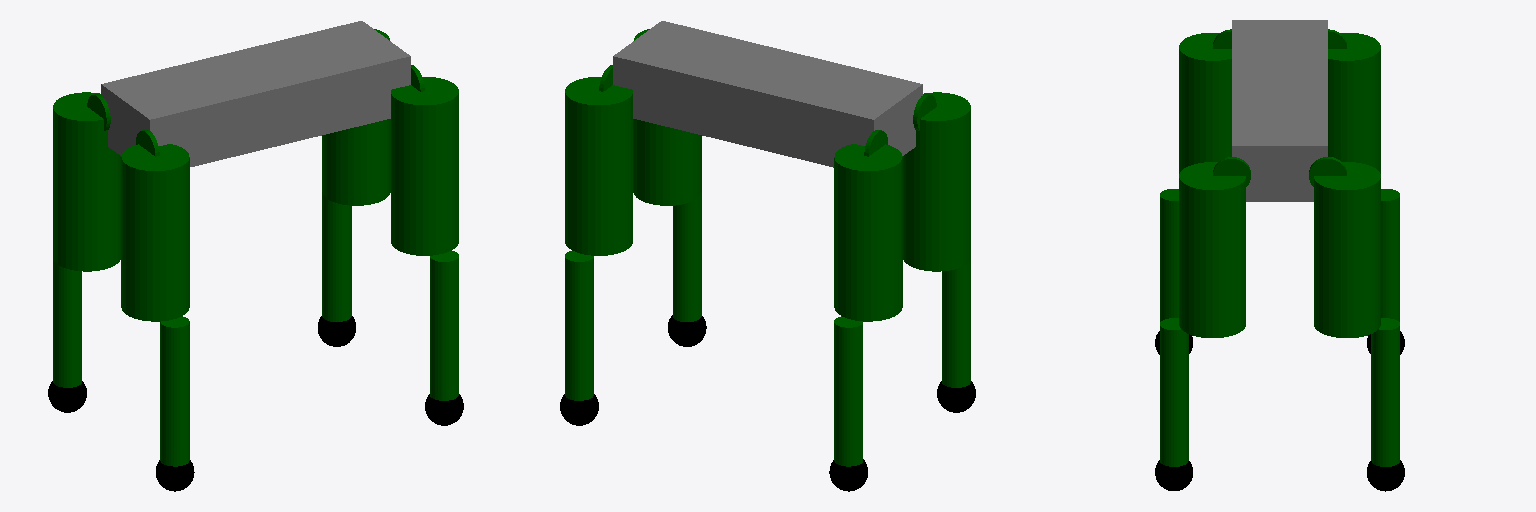
The robot description file, URDF, robot "simple_ghost_v60":
<?xml version="1.0" ?>
<!-- =================================================================================== -->
<!-- |    This document was autogenerated by xacro from simple_ghost_v60.xacro         | -->
<!-- |    EDITING THIS FILE BY HAND IS NOT RECOMMENDED                                 | -->
<!-- =================================================================================== -->
<!--
This is the main Xacro file used to describe the mechanical properties of the quadruped Çomar. 

Xacro is an XML language based on URDF. It has the capability of running macros. Such as taking variables and writing functions. 
Xacro can be converted to a straightforward URDF file pretty easily. So it is advantageous to use.

This file can be used as a template for future changes in the robot. This file alone does not work since it refers to other Xacro files and functions inside them.  

The document explains each property with comments (green) above them. As a rule of  thumb turquoise indicates variable name and orange indicates the value of the variable. 
Edit orange values only.



-->
<robot name="simple_ghost_v60">
  <!-- custom tags. please enter the desired values if available 
body_height in meters. height of the body part
gear ratios - no units
motorTauMax maximum torque the motor can aply. Nm
batteryV Battery Voltage, Volts
motorKT from motor sheet
motorR Ohms
rotorRadius and rotorHeight in meters
RotorMass in kg
-->
  <custom abadGearRatio="1" batteryV="24" body_height="5" hipGearRatio="1" kneeGearRatio="1" motorKT="0.095" motorR="0.272" motorTauMax="25" rotorHeight="0.0502" rotorMass="0.521" rotorRadius="0.083"/>
  <!-- robot name -->
  <!-- directory folder containing the mesh files -->
  <!-- <xacro:property name="meshdir" value="package://opy-highlevel/meshes/solo12" />  -->
  <!-- directory to file -->
  <!-- name of the file, should not have .stl at the end -->
  <!-- <xacro:property name="body_meshfile"   value= "GOVDE" />    
  <xacro:property name="abad_meshfile"   value= "ABDUCTION" /> 
  <xacro:property name="hip_meshfile"    value= "HIP" /> 
  <xacro:property name="knee_meshfile"   value= "KNEE" /> 
  <xacro:property name="foot_meshfile"   value= "FOOT" />  -->
  <!-- [kg] -->
  <!-- [kg] -->
  <!-- [kg] -->
  <!-- [kg] -->
  <!-- [kg] -->
  <!-- [kg] -->
  <!--[N] -->
  <!-- [m] -->
  <!-- <xacro:property name="body_inertia_at_com" value="${[0.144005 0.000254013 -0.00166722
                                                                0.380679  0.00130096
                                                                          0.447682]}" />    -->
  <!-- [m] -->
  <!-- abad_com_origin: center of mass of abad link wrt abad joint origin [m] -->
  <!-- <xacro:property name="abad_com_origin"    value="${[0.011366, 0.007729, 0.0048783]}" />  -->
  <!-- abad_inertia_at_com: inertia of abad link wrt abad com origin [ixx ixy ixz iyy iyz izz] -->
  <!-- <xacro:property name="abad_inertia_at_com" value="${ [ 1220.42e-06,   4.428e-06, -0.8715e-06, 
                                                                        693.402e-06, -158.578e-06, 
                                                                              835.772e-06       ]   }" />    -->
  <!-- [m] -->
  <!-- [ixx ixy ixz iyy iyz izz] -->
  <!-- <xacro:property name="hip_inertia_at_com" value="${[5973.75e-06,  -120.436e-06, 399.58e-06, 
                                                                  5820.52e-06, -875.292e-06, 
                                                                               1518.4e-06]}" />     -->
  <!-- [m] -->
  <!-- [ixx ixy ixz iyy iyz izz] -->
  <!-- <xacro:property name="knee_inertia_at_com" value="${[1555.76e-06, 0.115e-06,    -4.2593e-06, 
                                                                  1574.68e-06,  -9.6089e-06, 
                                                                                56.2211e-06]}" />    -->
  <!-- <link name="${robot_namespace}/world_link"> </link>
    <joint name="${robot_namespace}/world_j" type="revolute">
      <limit lower="-${0}" upper="${0}" effort="1e3" velocity="1e3"/> 

      <origin xyz="0 0 0" rpy="0 0 0" />
      <parent link="${robot_namespace}/world_link" />
      <child link="${robot_namespace}/base_link" />
    </joint> -->
  <material name="gray">
    <color rgba="0.5 0.5 0.5 1"/>
  </material>
  <material name="green">
    <color rgba="0 0.4 0 1"/>
  </material>
  <material name="black">
    <color rgba="0 0 0 0.9"/>
  </material>
  <!--link 0 -->
  <link name="simple_ghost_v60/base_link"> </link>
  <joint name="simple_ghost_v60/base_joint" type="revolute">
    <origin rpy="0 0 0" xyz="0 0 0"/>
    <parent link="simple_ghost_v60/base_link"/>
    <child link="simple_ghost_v60/base_link_inertia"/>
  </joint>
  <link name="simple_ghost_v60/base_link_inertia">
    <inertial>
      <origin rpy="0 0 0" xyz="0.0 0.0 0.0"/>
      <mass value="40"/>
      <!-- The base is extremely symmetrical. -->
      <!-- Inertia tensor for a box -->
      <inertia ixx="0.18966666666666668" ixy="0.0" ixz="0.0" iyy="1.3257080333333333" iyz="0.0" izz="1.4027080333333333"/>
    </inertial>
    <visual>
      <origin rpy="0 0 0" xyz="0 0 0"/>
      <geometry>
        <box size="0.6171 0.2  0.13"/>
      </geometry>
      <material name="gray"/>
    </visual>
    <collision>
      <origin rpy="0 0 0" xyz="0 0 0"/>
      <geometry>
        <box size="0.6171 0.2  0.13"/>
      </geometry>
    </collision>
  </link>
  <joint name="simple_ghost_v60/abad_1_joint" type="revolute">
    <limit effort="1e3" lower="-3.141592653589793" upper="3.141592653589793" velocity="1e3"/>
    <dynamics damping="0.03" friction="0.05"/>
    <!-- abad_joint_origin -->
    <origin rpy="0 0 0" xyz="0.30855 -0.1 0"/>
    <axis xyz="1 0 0"/>
    <parent link="simple_ghost_v60/base_link"/>
    <child link="simple_ghost_v60/abad_1"/>
  </joint>
  <link name="simple_ghost_v60/abad_1">
    <inertial>
      <!-- abad_link_origin -->
      <origin rpy="0 0 0" xyz="0.005 0 0"/>
      <mass value="0.5"/>
      <!-- [kg] -->
      <!-- abad_inertia_at_com -->
      <!-- Inertia tensor for a cylinder -->
      <inertia ixx="0.005429166666666667" ixy="0.0" ixz="0.0" iyy="0.005429166666666667" iyz="0.0" izz="0.0012250000000000002"/>
    </inertial>
    <visual>
      <origin rpy="0 -1.57 0" xyz="0.005 0 0"/>
      <geometry>
        <cylinder length="0.01" radius="0.04"/>
      </geometry>
      <material name="green"/>
    </visual>
    <collision>
      <origin rpy="0 -1.57 0" xyz="0.005 0 0"/>
      <geometry>
        <cylinder length="0.01" radius="0.04"/>
      </geometry>
    </collision>
  </link>
  <joint name="simple_ghost_v60/hip_1_joint" type="revolute">
    <limit effort="1e3" lower="-3.141592653589793" upper="3.141592653589793" velocity="1e3"/>
    <dynamics damping="0.03" friction="0.05"/>
    <!-- hip_joint_origin -->
    <origin rpy="0 0 3.14" xyz="0.01 -0.04 0"/>
    <axis xyz="0 1 0"/>
    <parent link="simple_ghost_v60/abad_1"/>
    <child link="simple_ghost_v60/hip_1"/>
  </joint>
  <link name="simple_ghost_v60/hip_1">
    <inertial>
      <!-- hip_link_origin -->
      <origin rpy="0 0 0" xyz="0 0 -0.17"/>
      <mass value="0.5"/>
      <!-- Inertia tensor for a cylinder -->
      <inertia ixx="0.005429166666666667" ixy="0.0" ixz="0.0" iyy="0.005429166666666667" iyz="0.0" izz="0.0012250000000000002"/>
    </inertial>
    <visual>
      <origin rpy="0 0 3.1415" xyz="0 0 -0.17"/>
      <geometry>
        <cylinder length="0.34" radius="0.07"/>
      </geometry>
      <material name="green"/>
    </visual>
    <collision>
      <origin rpy="0 0 3.1415" xyz="0 0 -0.17"/>
      <geometry>
        <cylinder length="0.34" radius="0.07"/>
      </geometry>
    </collision>
  </link>
  <joint name="simple_ghost_v60/knee_1_joint" type="revolute">
    <!-- knee_joint_origin -->
    <origin rpy="0 0 0" xyz="0 0.08024 -0.34"/>
    <limit effort="1e3" lower="-3.141592653589793" upper="3.141592653589793" velocity="1e3"/>
    <dynamics damping="0.03" friction="0.05"/>
    <axis xyz="0 1 0"/>
    <parent link="simple_ghost_v60/hip_1"/>
    <child link="simple_ghost_v60/knee_1"/>
  </joint>
  <link name="simple_ghost_v60/knee_1">
    <inertial>
      <origin rpy="0 0 0" xyz="0.0 0.00776716 -0.07003876"/>
      <mass value="0.5"/>
      <!-- Inertia tensor for a cylinder -->
      <inertia ixx="0.004929166666666667" ixy="0.0" ixz="0.0" iyy="0.004929166666666667" iyz="0.0" izz="0.000225"/>
    </inertial>
    <visual>
      <origin rpy="0 0 3.1415" xyz="0 0 -0.17"/>
      <geometry>
        <cylinder length="0.34" radius="0.03"/>
      </geometry>
      <material name="green"/>
    </visual>
    <collision>
      <origin rpy="0 0 3.1415" xyz="0 0 -0.17"/>
      <geometry>
        <cylinder length="0.34" radius="0.03"/>
      </geometry>
    </collision>
  </link>
  <joint name="simple_ghost_v60/foot_1_joint" type="fixed">
    <!-- foot_joint_origin -->
    <origin rpy="0 0 0" xyz="0 0 -0.34"/>
    <parent link="simple_ghost_v60/knee_1"/>
    <child link="simple_ghost_v60/foot_1"/>
  </joint>
  <link name="simple_ghost_v60/foot_1">
    <inertial>
      <!-- foot_link_origin -->
      <origin rpy="0 0 0" xyz="0 0 0"/>
      <mass value="0.0001"/>
      <!-- foot_inertia_at_com -->
      <inertia ixx="1e-08" ixy="0" ixz="0" iyy="1e-08" iyz="0" izz="1e-08"/>
    </inertial>
    <visual>
      <origin rpy="0 0 0" xyz="0 0 0"/>
      <geometry>
        <sphere radius="0.04"/>
      </geometry>
      <material name="black"/>
    </visual>
    <collision>
      <origin rpy="0 0 0" xyz="0 0 0"/>
      <geometry>
        <sphere radius="0.04"/>
      </geometry>
    </collision>
  </link>
  <joint name="simple_ghost_v60/abad_2_joint" type="revolute">
    <limit effort="1e3" lower="-3.141592653589793" upper="3.141592653589793" velocity="1e3"/>
    <dynamics damping="0.03" friction="0.05"/>
    <!-- abad_joint_origin -->
    <origin rpy="0 0 0" xyz="0.30855 0.1 0"/>
    <axis xyz="1 0 0"/>
    <parent link="simple_ghost_v60/base_link"/>
    <child link="simple_ghost_v60/abad_2"/>
  </joint>
  <link name="simple_ghost_v60/abad_2">
    <inertial>
      <!-- abad_link_origin -->
      <origin rpy="0 0 0" xyz="0.005 0 0"/>
      <mass value="0.5"/>
      <!-- [kg] -->
      <!-- abad_inertia_at_com -->
      <!-- Inertia tensor for a cylinder -->
      <inertia ixx="0.005429166666666667" ixy="0.0" ixz="0.0" iyy="0.005429166666666667" iyz="0.0" izz="0.0012250000000000002"/>
    </inertial>
    <visual>
      <origin rpy="0 -1.57 0" xyz="0.005 0 0"/>
      <geometry>
        <cylinder length="0.01" radius="0.04"/>
      </geometry>
      <material name="green"/>
    </visual>
    <collision>
      <origin rpy="0 -1.57 0" xyz="0.005 0 0"/>
      <geometry>
        <cylinder length="0.01" radius="0.04"/>
      </geometry>
    </collision>
  </link>
  <joint name="simple_ghost_v60/hip_2_joint" type="revolute">
    <limit effort="1e3" lower="-3.141592653589793" upper="3.141592653589793" velocity="1e3"/>
    <dynamics damping="0.03" friction="0.05"/>
    <!-- hip_joint_origin -->
    <origin rpy="0 0 3.14" xyz="0.01 0.04 0"/>
    <axis xyz="0 1 0"/>
    <parent link="simple_ghost_v60/abad_2"/>
    <child link="simple_ghost_v60/hip_2"/>
  </joint>
  <link name="simple_ghost_v60/hip_2">
    <inertial>
      <!-- hip_link_origin -->
      <origin rpy="0 0 0" xyz="0 0 -0.17"/>
      <mass value="0.5"/>
      <!-- Inertia tensor for a cylinder -->
      <inertia ixx="0.005429166666666667" ixy="0.0" ixz="0.0" iyy="0.005429166666666667" iyz="0.0" izz="0.0012250000000000002"/>
    </inertial>
    <visual>
      <origin rpy="0 0 3.1415" xyz="0 0 -0.17"/>
      <geometry>
        <cylinder length="0.34" radius="0.07"/>
      </geometry>
      <material name="green"/>
    </visual>
    <collision>
      <origin rpy="0 0 3.1415" xyz="0 0 -0.17"/>
      <geometry>
        <cylinder length="0.34" radius="0.07"/>
      </geometry>
    </collision>
  </link>
  <joint name="simple_ghost_v60/knee_2_joint" type="revolute">
    <!-- knee_joint_origin -->
    <origin rpy="0 0 0" xyz="0 -0.08024 -0.34"/>
    <limit effort="1e3" lower="-3.141592653589793" upper="3.141592653589793" velocity="1e3"/>
    <dynamics damping="0.03" friction="0.05"/>
    <axis xyz="0 1 0"/>
    <parent link="simple_ghost_v60/hip_2"/>
    <child link="simple_ghost_v60/knee_2"/>
  </joint>
  <link name="simple_ghost_v60/knee_2">
    <inertial>
      <origin rpy="0 0 0" xyz="0.0 -0.00776716 -0.07003876"/>
      <mass value="0.5"/>
      <!-- Inertia tensor for a cylinder -->
      <inertia ixx="0.004929166666666667" ixy="0.0" ixz="0.0" iyy="0.004929166666666667" iyz="0.0" izz="0.000225"/>
    </inertial>
    <visual>
      <origin rpy="0 0 3.1415" xyz="0 0 -0.17"/>
      <geometry>
        <cylinder length="0.34" radius="0.03"/>
      </geometry>
      <material name="green"/>
    </visual>
    <collision>
      <origin rpy="0 0 3.1415" xyz="0 0 -0.17"/>
      <geometry>
        <cylinder length="0.34" radius="0.03"/>
      </geometry>
    </collision>
  </link>
  <joint name="simple_ghost_v60/foot_2_joint" type="fixed">
    <!-- foot_joint_origin -->
    <origin rpy="0 0 0" xyz="0 0 -0.34"/>
    <parent link="simple_ghost_v60/knee_2"/>
    <child link="simple_ghost_v60/foot_2"/>
  </joint>
  <link name="simple_ghost_v60/foot_2">
    <inertial>
      <!-- foot_link_origin -->
      <origin rpy="0 0 0" xyz="0 0 0"/>
      <mass value="0.0001"/>
      <!-- foot_inertia_at_com -->
      <inertia ixx="1e-08" ixy="0" ixz="0" iyy="1e-08" iyz="0" izz="1e-08"/>
    </inertial>
    <visual>
      <origin rpy="0 0 0" xyz="0 0 0"/>
      <geometry>
        <sphere radius="0.04"/>
      </geometry>
      <material name="black"/>
    </visual>
    <collision>
      <origin rpy="0 0 0" xyz="0 0 0"/>
      <geometry>
        <sphere radius="0.04"/>
      </geometry>
    </collision>
  </link>
  <joint name="simple_ghost_v60/abad_3_joint" type="revolute">
    <limit effort="1e3" lower="-3.141592653589793" upper="3.141592653589793" velocity="1e3"/>
    <dynamics damping="0.03" friction="0.05"/>
    <!-- abad_joint_origin -->
    <origin rpy="0 0 0" xyz="-0.30855 -0.1 0"/>
    <axis xyz="1 0 0"/>
    <parent link="simple_ghost_v60/base_link"/>
    <child link="simple_ghost_v60/abad_3"/>
  </joint>
  <link name="simple_ghost_v60/abad_3">
    <inertial>
      <!-- abad_link_origin -->
      <origin rpy="0 0 0" xyz="-0.005 0 0"/>
      <mass value="0.5"/>
      <!-- [kg] -->
      <!-- abad_inertia_at_com -->
      <!-- Inertia tensor for a cylinder -->
      <inertia ixx="0.005429166666666667" ixy="0.0" ixz="0.0" iyy="0.005429166666666667" iyz="0.0" izz="0.0012250000000000002"/>
    </inertial>
    <visual>
      <origin rpy="0 -1.57 0" xyz="-0.005 0 0"/>
      <geometry>
        <cylinder length="0.01" radius="0.04"/>
      </geometry>
      <material name="green"/>
    </visual>
    <collision>
      <origin rpy="0 -1.57 0" xyz="-0.005 0 0"/>
      <geometry>
        <cylinder length="0.01" radius="0.04"/>
      </geometry>
    </collision>
  </link>
  <joint name="simple_ghost_v60/hip_3_joint" type="revolute">
    <limit effort="1e3" lower="-3.141592653589793" upper="3.141592653589793" velocity="1e3"/>
    <dynamics damping="0.03" friction="0.05"/>
    <!-- hip_joint_origin -->
    <origin rpy="0 0 3.14" xyz="-0.01 -0.04 0"/>
    <axis xyz="0 1 0"/>
    <parent link="simple_ghost_v60/abad_3"/>
    <child link="simple_ghost_v60/hip_3"/>
  </joint>
  <link name="simple_ghost_v60/hip_3">
    <inertial>
      <!-- hip_link_origin -->
      <origin rpy="0 0 0" xyz="0 0 -0.17"/>
      <mass value="0.5"/>
      <!-- Inertia tensor for a cylinder -->
      <inertia ixx="0.005429166666666667" ixy="0.0" ixz="0.0" iyy="0.005429166666666667" iyz="0.0" izz="0.0012250000000000002"/>
    </inertial>
    <visual>
      <origin rpy="0 0 3.1415" xyz="0 0 -0.17"/>
      <geometry>
        <cylinder length="0.34" radius="0.07"/>
      </geometry>
      <material name="green"/>
    </visual>
    <collision>
      <origin rpy="0 0 3.1415" xyz="0 0 -0.17"/>
      <geometry>
        <cylinder length="0.34" radius="0.07"/>
      </geometry>
    </collision>
  </link>
  <joint name="simple_ghost_v60/knee_3_joint" type="revolute">
    <!-- knee_joint_origin -->
    <origin rpy="0 0 0" xyz="0 0.08024 -0.34"/>
    <limit effort="1e3" lower="-3.141592653589793" upper="3.141592653589793" velocity="1e3"/>
    <dynamics damping="0.03" friction="0.05"/>
    <axis xyz="0 1 0"/>
    <parent link="simple_ghost_v60/hip_3"/>
    <child link="simple_ghost_v60/knee_3"/>
  </joint>
  <link name="simple_ghost_v60/knee_3">
    <inertial>
      <origin rpy="0 0 0" xyz="0.0 0.00776716 -0.07003876"/>
      <mass value="0.5"/>
      <!-- Inertia tensor for a cylinder -->
      <inertia ixx="0.004929166666666667" ixy="0.0" ixz="0.0" iyy="0.004929166666666667" iyz="0.0" izz="0.000225"/>
    </inertial>
    <visual>
      <origin rpy="0 0 3.1415" xyz="0 0 -0.17"/>
      <geometry>
        <cylinder length="0.34" radius="0.03"/>
      </geometry>
      <material name="green"/>
    </visual>
    <collision>
      <origin rpy="0 0 3.1415" xyz="0 0 -0.17"/>
      <geometry>
        <cylinder length="0.34" radius="0.03"/>
      </geometry>
    </collision>
  </link>
  <joint name="simple_ghost_v60/foot_3_joint" type="fixed">
    <!-- foot_joint_origin -->
    <origin rpy="0 0 0" xyz="0 0 -0.34"/>
    <parent link="simple_ghost_v60/knee_3"/>
    <child link="simple_ghost_v60/foot_3"/>
  </joint>
  <link name="simple_ghost_v60/foot_3">
    <inertial>
      <!-- foot_link_origin -->
      <origin rpy="0 0 0" xyz="0 0 0"/>
      <mass value="0.0001"/>
      <!-- foot_inertia_at_com -->
      <inertia ixx="1e-08" ixy="0" ixz="0" iyy="1e-08" iyz="0" izz="1e-08"/>
    </inertial>
    <visual>
      <origin rpy="0 0 0" xyz="0 0 0"/>
      <geometry>
        <sphere radius="0.04"/>
      </geometry>
      <material name="black"/>
    </visual>
    <collision>
      <origin rpy="0 0 0" xyz="0 0 0"/>
      <geometry>
        <sphere radius="0.04"/>
      </geometry>
    </collision>
  </link>
  <joint name="simple_ghost_v60/abad_4_joint" type="revolute">
    <limit effort="1e3" lower="-3.141592653589793" upper="3.141592653589793" velocity="1e3"/>
    <dynamics damping="0.03" friction="0.05"/>
    <!-- abad_joint_origin -->
    <origin rpy="0 0 0" xyz="-0.30855 0.1 0"/>
    <axis xyz="1 0 0"/>
    <parent link="simple_ghost_v60/base_link"/>
    <child link="simple_ghost_v60/abad_4"/>
  </joint>
  <link name="simple_ghost_v60/abad_4">
    <inertial>
      <!-- abad_link_origin -->
      <origin rpy="0 0 0" xyz="-0.005 0 0"/>
      <mass value="0.5"/>
      <!-- [kg] -->
      <!-- abad_inertia_at_com -->
      <!-- Inertia tensor for a cylinder -->
      <inertia ixx="0.005429166666666667" ixy="0.0" ixz="0.0" iyy="0.005429166666666667" iyz="0.0" izz="0.0012250000000000002"/>
    </inertial>
    <visual>
      <origin rpy="0 -1.57 0" xyz="-0.005 0 0"/>
      <geometry>
        <cylinder length="0.01" radius="0.04"/>
      </geometry>
      <material name="green"/>
    </visual>
    <collision>
      <origin rpy="0 -1.57 0" xyz="-0.005 0 0"/>
      <geometry>
        <cylinder length="0.01" radius="0.04"/>
      </geometry>
    </collision>
  </link>
  <joint name="simple_ghost_v60/hip_4_joint" type="revolute">
    <limit effort="1e3" lower="-3.141592653589793" upper="3.141592653589793" velocity="1e3"/>
    <dynamics damping="0.03" friction="0.05"/>
    <!-- hip_joint_origin -->
    <origin rpy="0 0 3.14" xyz="-0.01 0.04 0"/>
    <axis xyz="0 1 0"/>
    <parent link="simple_ghost_v60/abad_4"/>
    <child link="simple_ghost_v60/hip_4"/>
  </joint>
  <link name="simple_ghost_v60/hip_4">
    <inertial>
      <!-- hip_link_origin -->
      <origin rpy="0 0 0" xyz="0 0 -0.17"/>
      <mass value="0.5"/>
      <!-- Inertia tensor for a cylinder -->
      <inertia ixx="0.005429166666666667" ixy="0.0" ixz="0.0" iyy="0.005429166666666667" iyz="0.0" izz="0.0012250000000000002"/>
    </inertial>
    <visual>
      <origin rpy="0 0 3.1415" xyz="0 0 -0.17"/>
      <geometry>
        <cylinder length="0.34" radius="0.07"/>
      </geometry>
      <material name="green"/>
    </visual>
    <collision>
      <origin rpy="0 0 3.1415" xyz="0 0 -0.17"/>
      <geometry>
        <cylinder length="0.34" radius="0.07"/>
      </geometry>
    </collision>
  </link>
  <joint name="simple_ghost_v60/knee_4_joint" type="revolute">
    <!-- knee_joint_origin -->
    <origin rpy="0 0 0" xyz="0 -0.08024 -0.34"/>
    <limit effort="1e3" lower="-3.141592653589793" upper="3.141592653589793" velocity="1e3"/>
    <dynamics damping="0.03" friction="0.05"/>
    <axis xyz="0 1 0"/>
    <parent link="simple_ghost_v60/hip_4"/>
    <child link="simple_ghost_v60/knee_4"/>
  </joint>
  <link name="simple_ghost_v60/knee_4">
    <inertial>
      <origin rpy="0 0 0" xyz="0.0 -0.00776716 -0.07003876"/>
      <mass value="0.5"/>
      <!-- Inertia tensor for a cylinder -->
      <inertia ixx="0.004929166666666667" ixy="0.0" ixz="0.0" iyy="0.004929166666666667" iyz="0.0" izz="0.000225"/>
    </inertial>
    <visual>
      <origin rpy="0 0 3.1415" xyz="0 0 -0.17"/>
      <geometry>
        <cylinder length="0.34" radius="0.03"/>
      </geometry>
      <material name="green"/>
    </visual>
    <collision>
      <origin rpy="0 0 3.1415" xyz="0 0 -0.17"/>
      <geometry>
        <cylinder length="0.34" radius="0.03"/>
      </geometry>
    </collision>
  </link>
  <joint name="simple_ghost_v60/foot_4_joint" type="fixed">
    <!-- foot_joint_origin -->
    <origin rpy="0 0 0" xyz="0 0 -0.34"/>
    <parent link="simple_ghost_v60/knee_4"/>
    <child link="simple_ghost_v60/foot_4"/>
  </joint>
  <link name="simple_ghost_v60/foot_4">
    <inertial>
      <!-- foot_link_origin -->
      <origin rpy="0 0 0" xyz="0 0 0"/>
      <mass value="0.0001"/>
      <!-- foot_inertia_at_com -->
      <inertia ixx="1e-08" ixy="0" ixz="0" iyy="1e-08" iyz="0" izz="1e-08"/>
    </inertial>
    <visual>
      <origin rpy="0 0 0" xyz="0 0 0"/>
      <geometry>
        <sphere radius="0.04"/>
      </geometry>
      <material name="black"/>
    </visual>
    <collision>
      <origin rpy="0 0 0" xyz="0 0 0"/>
      <geometry>
        <sphere radius="0.04"/>
      </geometry>
    </collision>
  </link>
</robot>

--- What the picture shows (computed from the rendered views, not written in the file) ---
3 views of the same robot in one strip: view 1: azimuth 30°, elevation 25°; view 2: azimuth 150°, elevation 25°; view 3: azimuth 270°, elevation 25° (orthographic).
Robot: simple_ghost_v60 — 18 links, 17 joints (13 revolute, 4 fixed); root link simple_ghost_v60/base_link; default pose: all joints at 0.
Links seen in each view (by area): view 1: simple_ghost_v60/base_link_inertia, simple_ghost_v60/hip_3, simple_ghost_v60/hip_1, simple_ghost_v60/hip_4, simple_ghost_v60/hip_2, simple_ghost_v60/knee_3, simple_ghost_v60/knee_1, simple_ghost_v60/knee_2, simple_ghost_v60/knee_4, simple_ghost_v60/foot_4, simple_ghost_v60/foot_1, simple_ghost_v60/foot_2 (+1 smaller); view 2: simple_ghost_v60/base_link_inertia, simple_ghost_v60/hip_4, simple_ghost_v60/hip_2, simple_ghost_v60/hip_3, simple_ghost_v60/hip_1, simple_ghost_v60/knee_2, simple_ghost_v60/knee_4, simple_ghost_v60/knee_1, simple_ghost_v60/knee_3, simple_ghost_v60/foot_2, simple_ghost_v60/foot_3, simple_ghost_v60/foot_1 (+1 smaller); view 3: simple_ghost_v60/base_link_inertia, simple_ghost_v60/hip_1, simple_ghost_v60/hip_2, simple_ghost_v60/hip_3, simple_ghost_v60/hip_4, simple_ghost_v60/knee_2, simple_ghost_v60/knee_1, simple_ghost_v60/knee_4, simple_ghost_v60/knee_3, simple_ghost_v60/foot_2, simple_ghost_v60/foot_1, simple_ghost_v60/abad_1 (+1 smaller).
Link boxes in pixels (left/top/right/bottom): simple_ghost_v60/base_link_inertia: left=101, top=21, right=410, bottom=166; simple_ghost_v60/hip_3: left=121, top=144, right=189, bottom=321; simple_ghost_v60/hip_1: left=391, top=77, right=458, bottom=255; simple_ghost_v60/hip_4: left=53, top=92, right=120, bottom=271; simple_ghost_v60/hip_2: left=322, top=29, right=390, bottom=205; simple_ghost_v60/knee_3: left=160, top=316, right=189, bottom=466; simple_ghost_v60/knee_1: left=430, top=251, right=458, bottom=400; simple_ghost_v60/knee_2: left=322, top=192, right=351, bottom=321; simple_ghost_v60/knee_4: left=53, top=260, right=81, bottom=387; simple_ghost_v60/foot_4: left=48, top=381, right=86, bottom=412; simple_ghost_v60/foot_1: left=425, top=394, right=463, bottom=425; simple_ghost_v60/foot_2: left=318, top=316, right=355, bottom=346; simple_ghost_v60/base_link_inertia: left=613, top=21, right=922, bottom=167; simple_ghost_v60/hip_4: left=834, top=144, right=902, bottom=321; simple_ghost_v60/hip_2: left=565, top=77, right=632, bottom=255; simple_ghost_v60/hip_3: left=903, top=92, right=970, bottom=271; simple_ghost_v60/hip_1: left=633, top=29, right=701, bottom=205; simple_ghost_v60/knee_2: left=565, top=251, right=593, bottom=400; simple_ghost_v60/knee_4: left=834, top=316, right=862, bottom=466; simple_ghost_v60/knee_1: left=673, top=192, right=701, bottom=321; simple_ghost_v60/knee_3: left=942, top=260, right=970, bottom=387; simple_ghost_v60/foot_2: left=560, top=394, right=598, bottom=425; simple_ghost_v60/foot_3: left=937, top=381, right=975, bottom=412; simple_ghost_v60/foot_1: left=668, top=315, right=706, bottom=346; simple_ghost_v60/base_link_inertia: left=1232, top=20, right=1327, bottom=201; simple_ghost_v60/hip_1: left=1179, top=162, right=1245, bottom=337; simple_ghost_v60/hip_2: left=1314, top=162, right=1380, bottom=337; simple_ghost_v60/hip_3: left=1179, top=33, right=1231, bottom=173; simple_ghost_v60/hip_4: left=1328, top=33, right=1380, bottom=173; simple_ghost_v60/knee_2: left=1371, top=318, right=1399, bottom=466; simple_ghost_v60/knee_1: left=1160, top=318, right=1188, bottom=466; simple_ghost_v60/knee_4: left=1381, top=189, right=1399, bottom=321; simple_ghost_v60/knee_3: left=1160, top=189, right=1178, bottom=321; simple_ghost_v60/foot_2: left=1367, top=460, right=1404, bottom=491; simple_ghost_v60/foot_1: left=1155, top=460, right=1192, bottom=490; simple_ghost_v60/abad_1: left=1213, top=157, right=1250, bottom=186.
Bounding box of the posed robot: 0.7771 × 0.5205 × 0.785 m (x, y, z).
Geometry: primitives only (box / cylinder / sphere), no mesh files.
